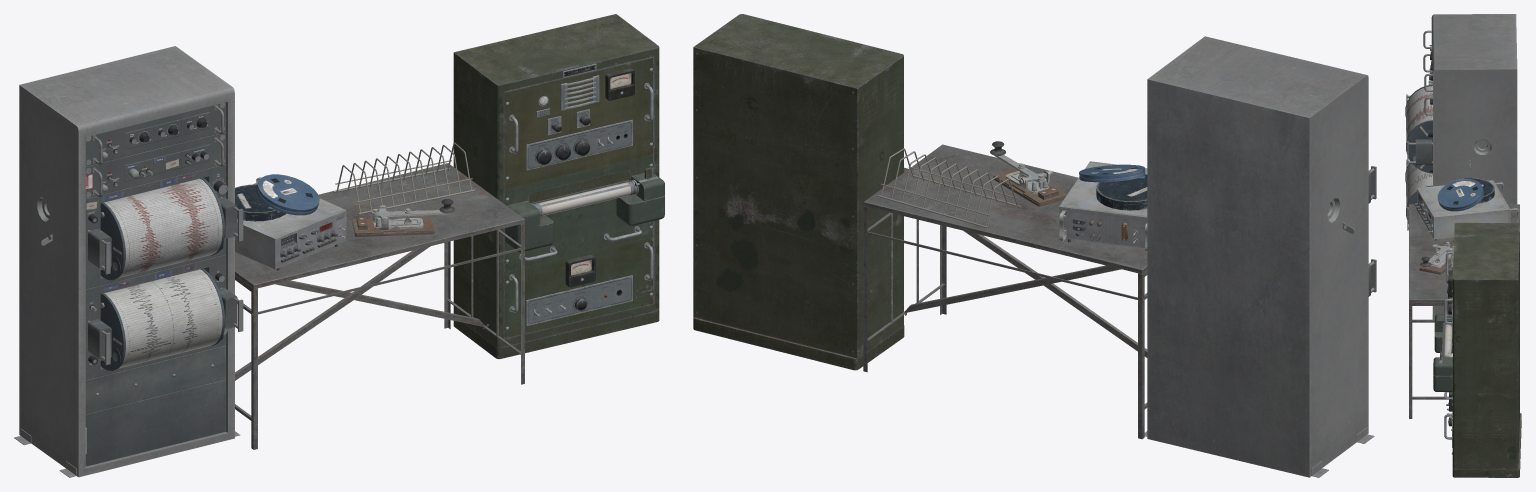
The model's file is comms_room_-_assets (1).fbx.
3 renders of one model, left to right at view 1: azimuth 30°, elevation 25°; view 2: azimuth 150°, elevation 25°; view 3: azimuth 270°, elevation 25°, orthographic. The views are drawn at different scales.
Parts seen in each view (by area): view 1: Siesmograph, OldFax, TableThin, Siesmograph_UpperRoll, Siesmograph_LowerRoll, MorseReciever, TapeRack, Tape, MorseKey, OldFax_Rotor, Tape_Case, MorseKey_Lever; view 2: Siesmograph, OldFax, TableThin, MorseReciever, TapeRack, Tape_Case, MorseKey, Tape; view 3: OldFax, Siesmograph, TableThin, MorseReciever, Siesmograph_UpperRoll, Tape, Siesmograph_LowerRoll, MorseKey, OldFax_Rotor, Tape_Case, MorseKey_Lever.
Part boxes in pixels (<box>): Siesmograph: <box>14,46,243,477</box>; OldFax: <box>453,14,664,359</box>; TableThin: <box>235,163,525,449</box>; Siesmograph_UpperRoll: <box>100,178,225,280</box>; Siesmograph_LowerRoll: <box>100,268,225,370</box>; MorseReciever: <box>235,177,346,270</box>; TapeRack: <box>333,142,474,214</box>; Tape: <box>256,174,319,215</box>; MorseKey: <box>352,205,434,236</box>; OldFax_Rotor: <box>532,179,638,216</box>; Tape_Case: <box>235,184,286,221</box>; MorseKey_Lever: <box>372,199,454,224</box>; Siesmograph: <box>1144,36,1376,477</box>; OldFax: <box>693,14,908,370</box>; TableThin: <box>863,144,1147,439</box>; MorseReciever: <box>1059,161,1147,251</box>; TapeRack: <box>877,148,1021,228</box>; Tape_Case: <box>1096,174,1147,210</box>; MorseKey: <box>993,168,1066,206</box>; Tape: <box>1079,164,1145,182</box>; OldFax: <box>1433,222,1521,477</box>; Siesmograph: <box>1406,14,1517,319</box>; TableThin: <box>1409,204,1519,418</box>; MorseReciever: <box>1414,180,1518,240</box>; Siesmograph_UpperRoll: <box>1405,85,1432,173</box>; Tape: <box>1437,179,1483,211</box>; Siesmograph_LowerRoll: <box>1405,163,1432,223</box>; MorseKey: <box>1419,244,1453,274</box>; OldFax_Rotor: <box>1441,322,1452,357</box>; Tape_Case: <box>1450,178,1494,203</box>; MorseKey_Lever: <box>1420,242,1452,267</box>.
Bounding box in the file's own units: 3.29 × 1.8 × 0.7526.
Materials: 4 (4 with a texture image).
